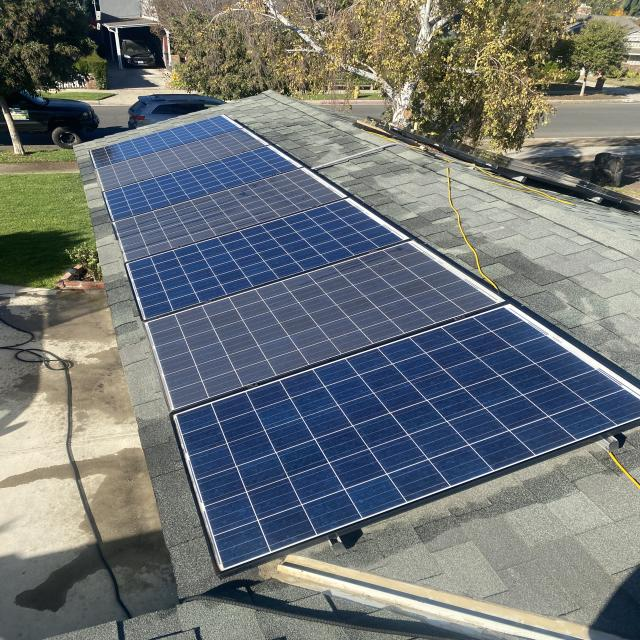dust-solar-panel: (133, 237, 514, 411), (113, 167, 343, 262), (96, 128, 266, 192)
